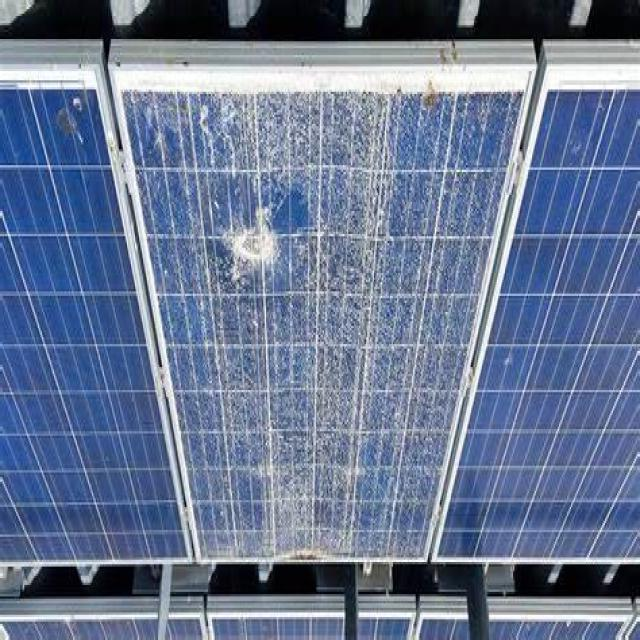cracked: (120, 52, 529, 566)
